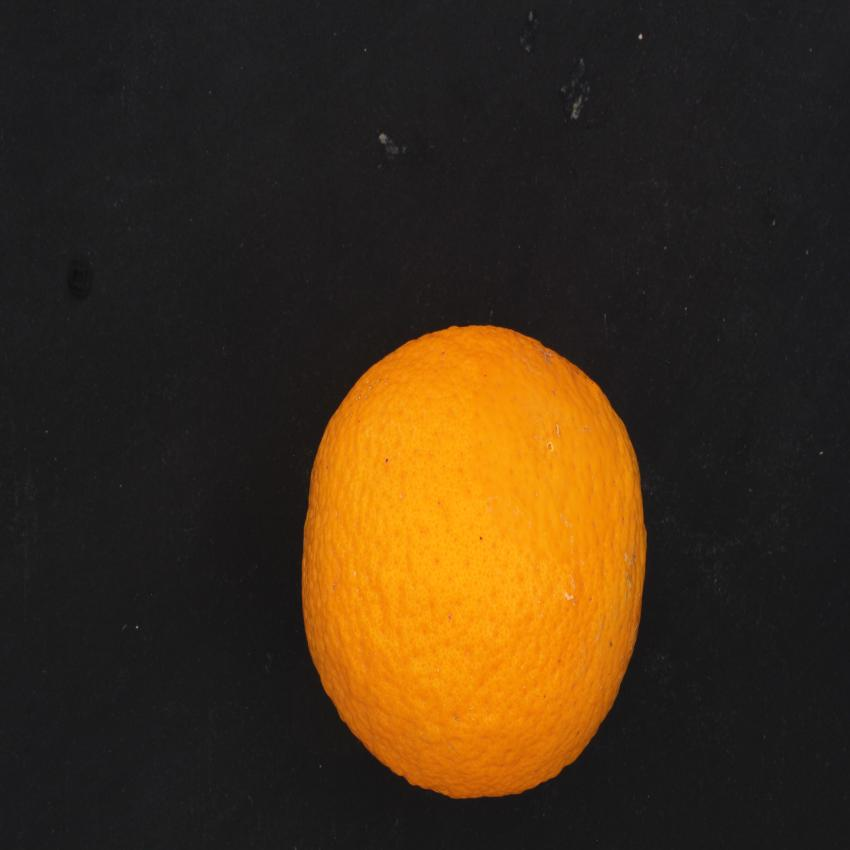Mal estado: (292, 310, 657, 815)
